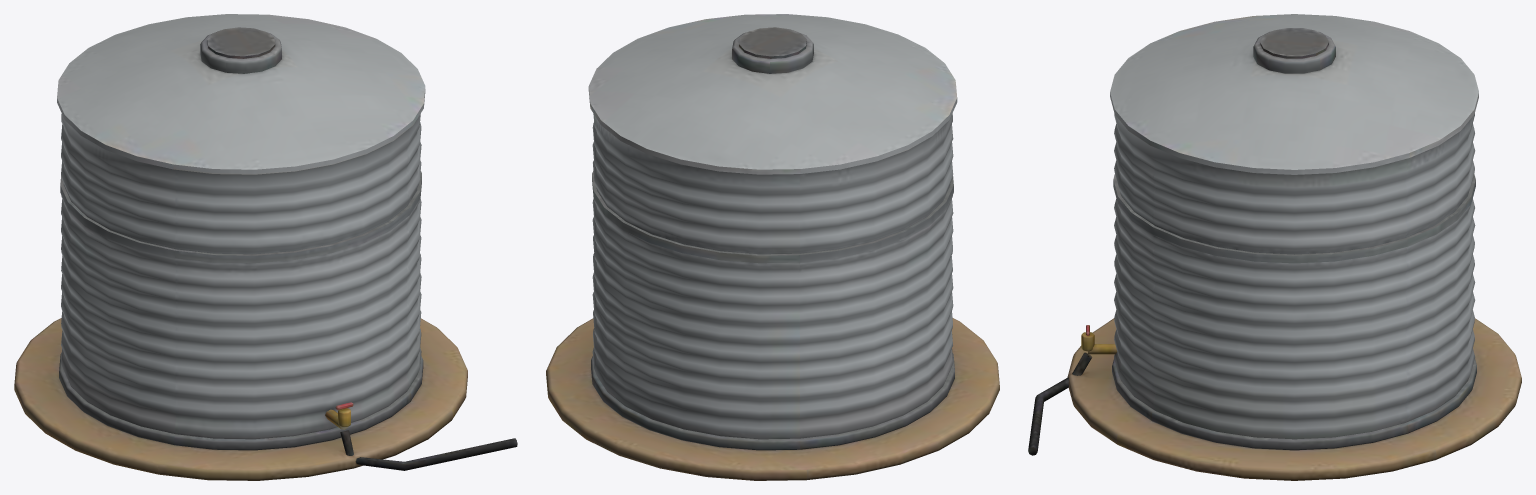
File: rain_tank.glb
3 views of the same model, side by side, from view 1: azimuth 30°, elevation 25°; view 2: azimuth 150°, elevation 25°; view 3: azimuth 270°, elevation 25° (orthographic).
Parts seen in each view (by area): view 1: rain_tank; view 2: rain_tank; view 3: rain_tank.
Boxes of the visible parts, left/top/right/bottom form: rain_tank: left=14, top=14, right=517, bottom=480; rain_tank: left=546, top=14, right=999, bottom=480; rain_tank: left=1028, top=14, right=1521, bottom=480.
Bounding box in the file's own units: 3.3 × 2.76 × 3.58.
Materials: 1 (1 with a texture image).
